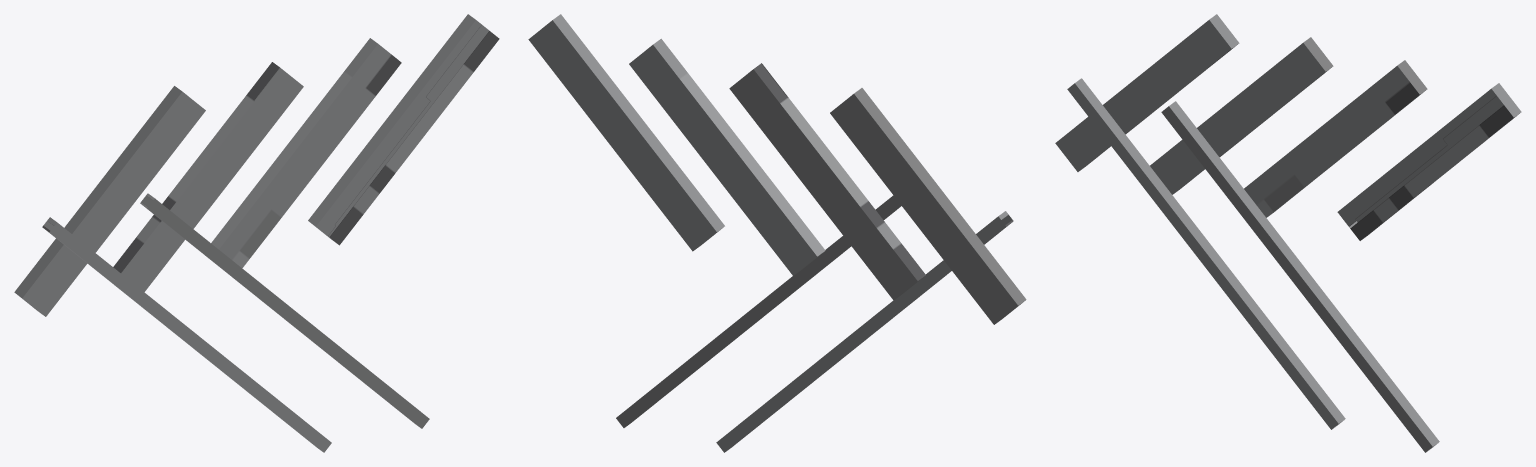
The picture shows the model from 3 angles, left to right: view 1: azimuth 30°, elevation 25°; view 2: azimuth 150°, elevation 25°; view 3: azimuth 330°, elevation 25°; orthographic projection. The views are drawn at different scales.
Bounding box in the file's own units: 1.29 × 1 × 0.072.
